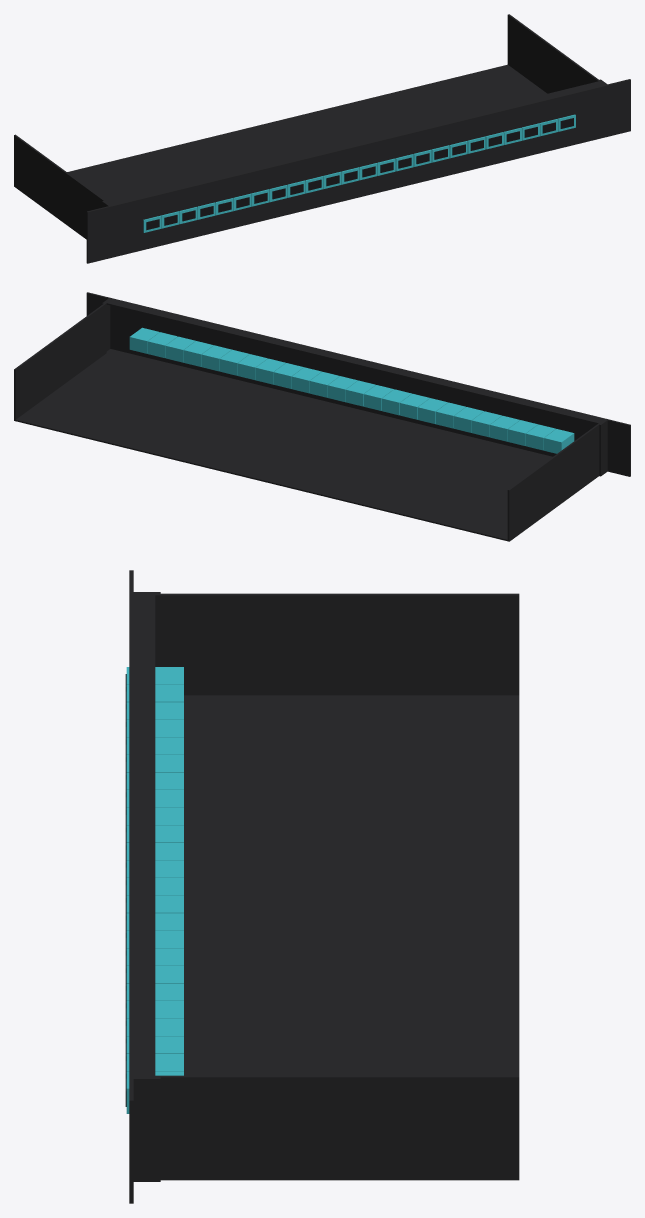
The model's file is FP-LC-24.far.glb.
The picture shows the model from 3 angles, top to bottom: view 1: azimuth 30°, elevation 25°; view 2: azimuth 150°, elevation 25°; view 3: azimuth 270°, elevation 25°; orthographic projection. The views are drawn at different scales.
Parts seen in each view (by area): view 1: FP-LC-24_Body_far; view 2: FP-LC-24_Body_far; view 3: FP-LC-24_Body_far.
Part boxes in pixels (x1=…): FP-LC-24_Body_far: x1=14, y1=14, x2=630, y2=263; FP-LC-24_Body_far: x1=14, y1=292, x2=630, y2=541; FP-LC-24_Body_far: x1=125, y1=570, x2=519, y2=1203.
Size of the model in its own units: 0.4826 by 0.0437 by 0.1515.
Materials: 1 (1 with a texture image).
